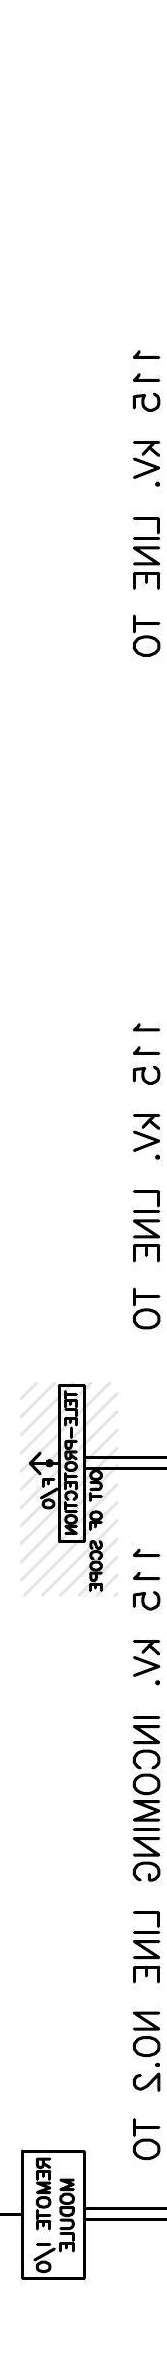remote_io_module: (21, 2149, 87, 2281)
tele_protection: (58, 1383, 87, 1544)
